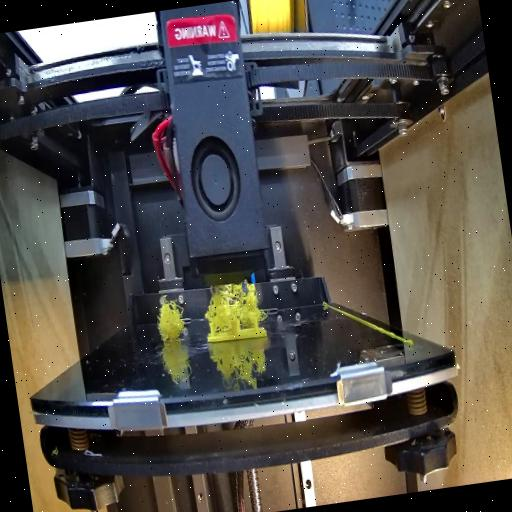spaghetti: (198, 268, 268, 336), (152, 294, 189, 345)
